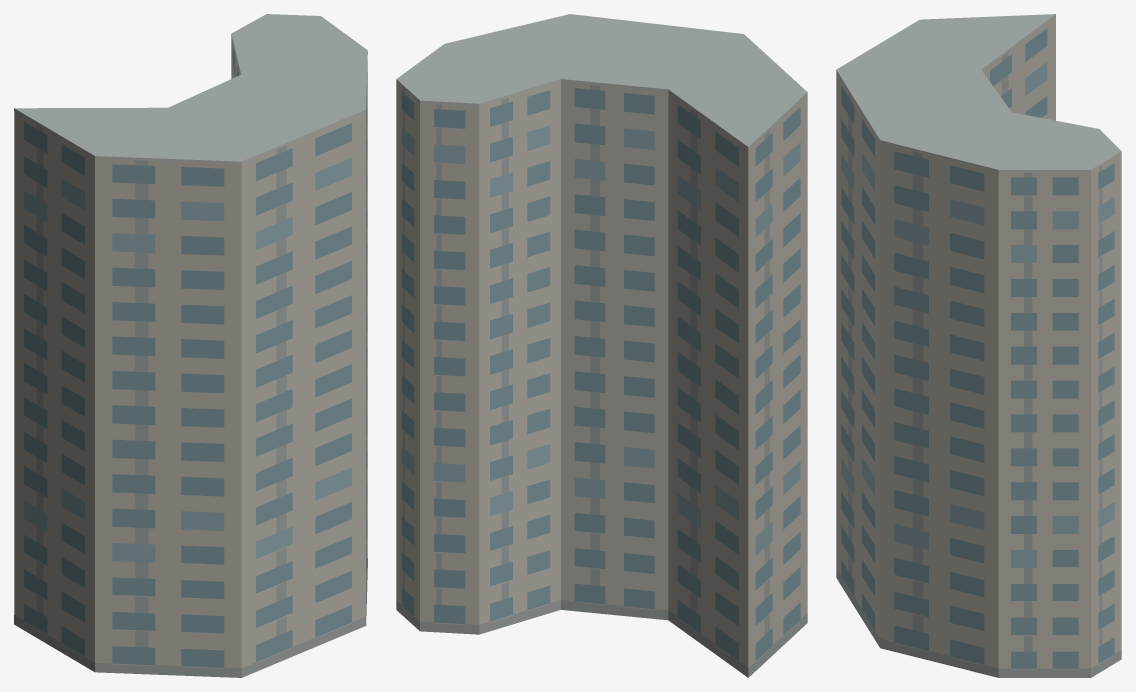
File: residential-6ffd4d1e-fa06-49d5-9c38-1ab3187f89f7.glb
3 renders of one model, left to right at view 1: azimuth 30°, elevation 25°; view 2: azimuth 150°, elevation 25°; view 3: azimuth 270°, elevation 25°, orthographic. The views are drawn at different scales.
Parts seen in each view (by area): view 1: residential-6ffd4d1e-fa06-49d5-9c38-1ab3187f89f7.tmp; view 2: residential-6ffd4d1e-fa06-49d5-9c38-1ab3187f89f7.tmp; view 3: residential-6ffd4d1e-fa06-49d5-9c38-1ab3187f89f7.tmp.
Boxes of the visible parts, x1,y1,x2,y2 form: residential-6ffd4d1e-fa06-49d5-9c38-1ab3187f89f7.tmp: (14,14,367,677); residential-6ffd4d1e-fa06-49d5-9c38-1ab3187f89f7.tmp: (396,14,807,677); residential-6ffd4d1e-fa06-49d5-9c38-1ab3187f89f7.tmp: (836,14,1121,677).
Size of the model in its own units: 30.12 by 45.75 by 23.3.
